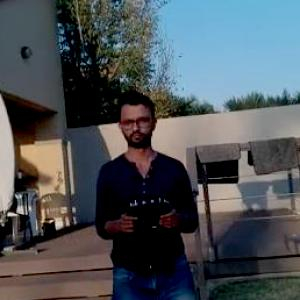follow: (81, 81, 196, 299)
